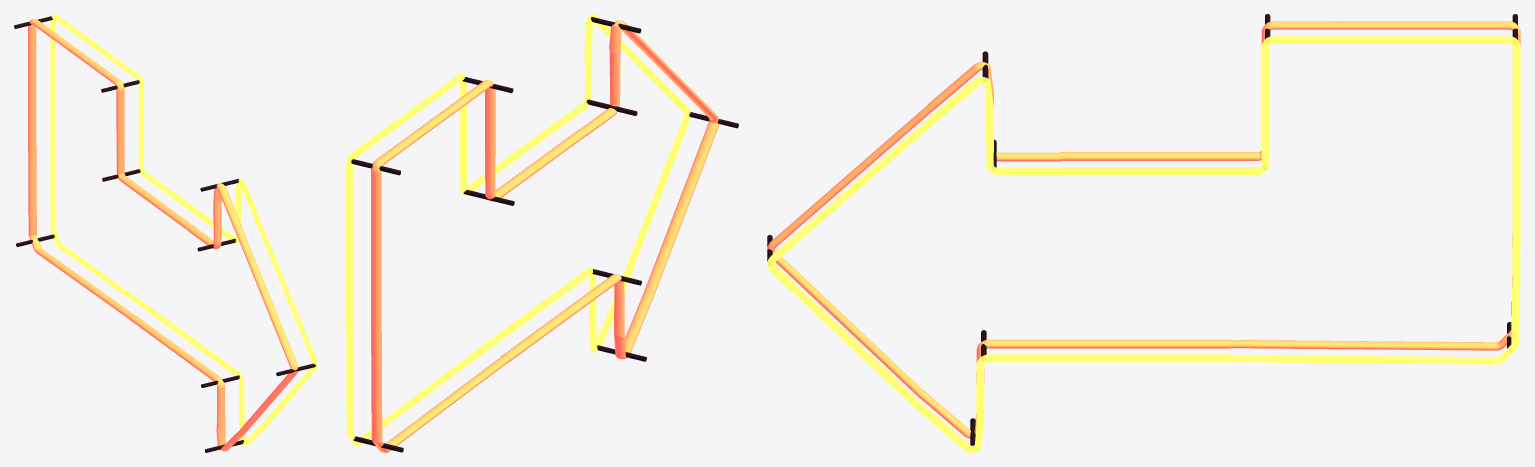
The model's file is LeuchtpfeilGELB.fbx.
3 renders of one model, left to right at view 1: azimuth 30°, elevation 25°; view 2: azimuth 150°, elevation 25°; view 3: azimuth 270°, elevation 25°, orthographic. The views are drawn at different scales.
Visible parts, largest first — view 1: pCylinder18; view 2: pCylinder18; view 3: pCylinder18.
Boxes of the visible parts, <box> form: pCylinder18: <box>14,14,317,452</box>; pCylinder18: <box>346,14,738,452</box>; pCylinder18: <box>767,14,1520,452</box>.
Bounding box in the file's own units: 36.41 × 247 × 405.
